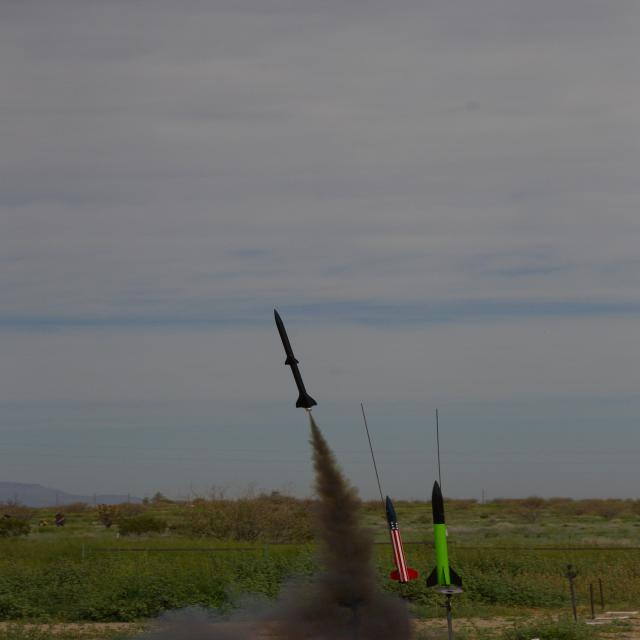Rocket: (274, 308, 319, 410), (426, 480, 464, 589), (386, 495, 420, 585)
